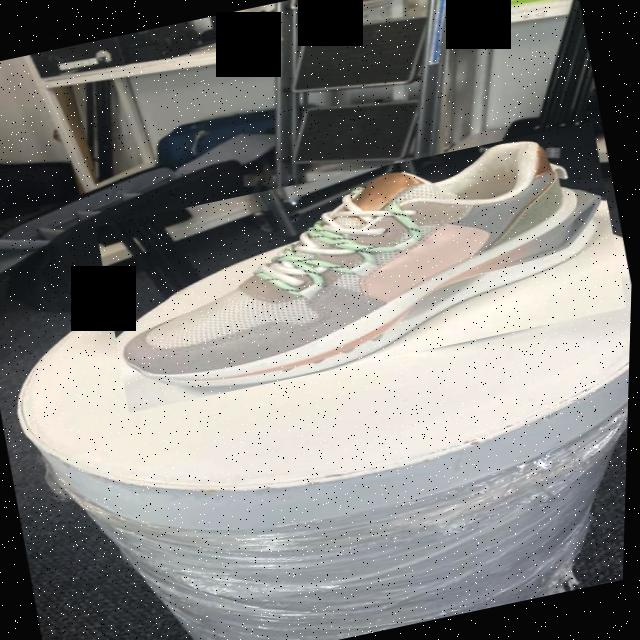shoe: (92, 121, 632, 412)
